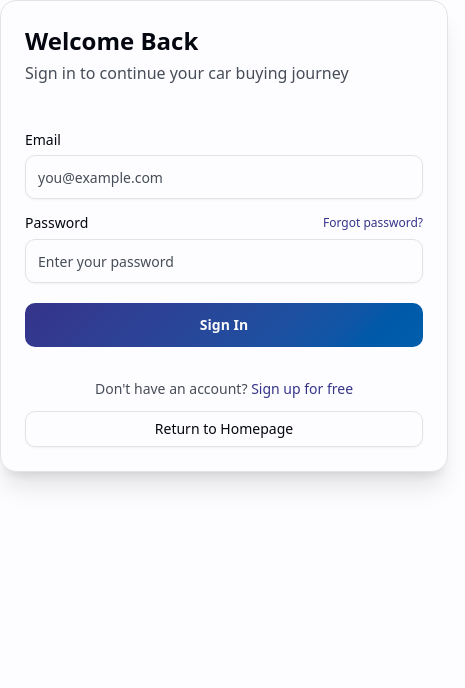
Test case: SignInForm — Frontend Behavioral Tests › Resend verification flow › shows failure message when resend network request fails
Type "unverified@example.com" into the field labelled "Email" at (224, 177), box [25, 155, 423, 199]
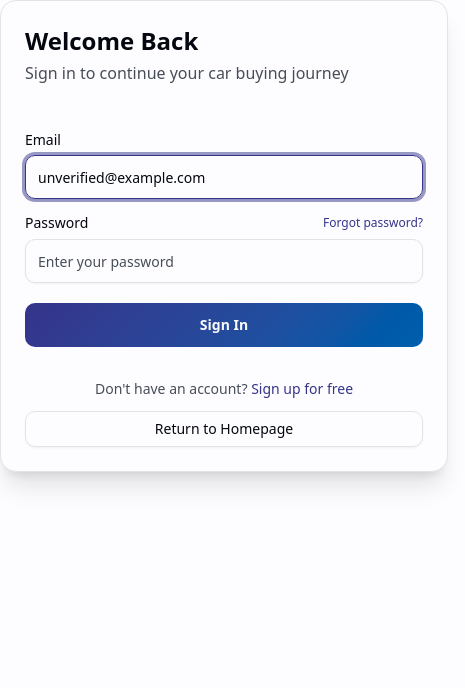
Type "password123" into the password field labelled "Password" at (224, 261), box [25, 239, 423, 283]
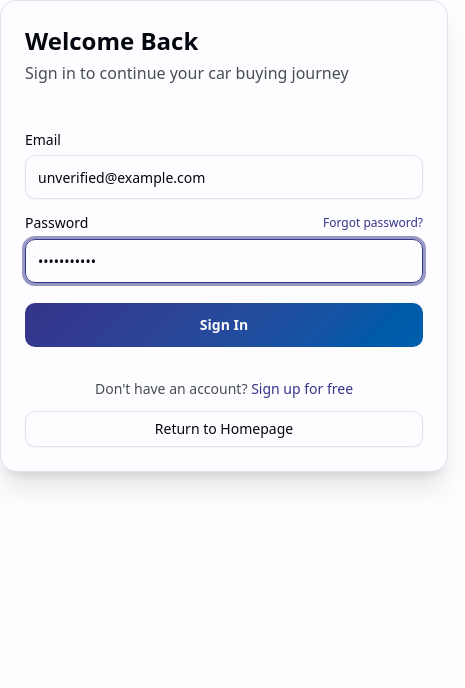
Click the button "Sign In" at (224, 325), box [25, 303, 423, 347]
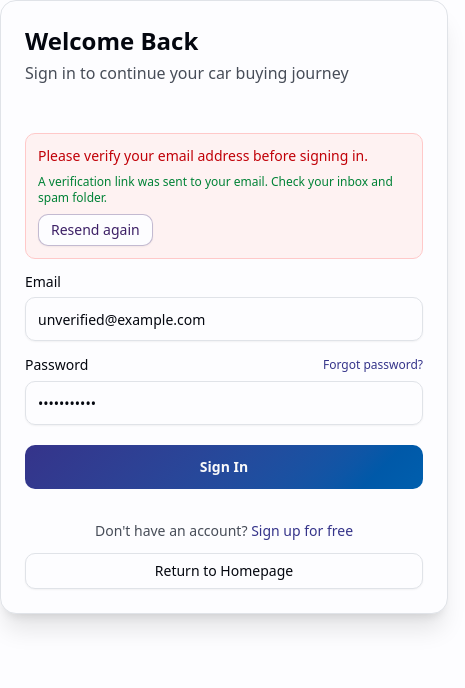
Expected: the button "Resend again" is shown
Click the button "Resend again" at (95, 230), box [38, 214, 153, 246]
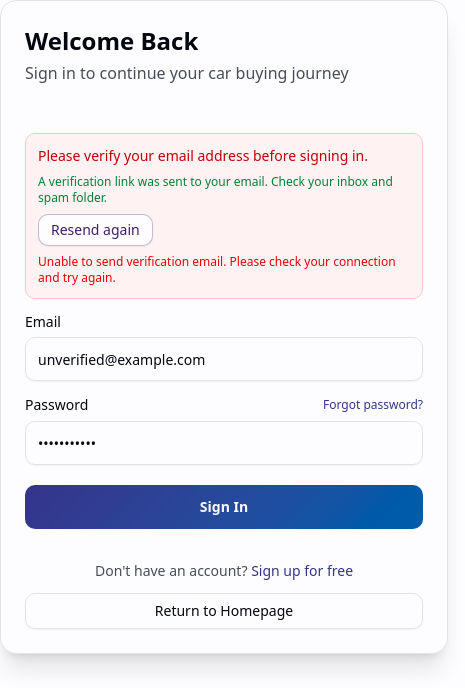
Expected: the text "Unable to send" is shown, [38, 253, 396, 286]
